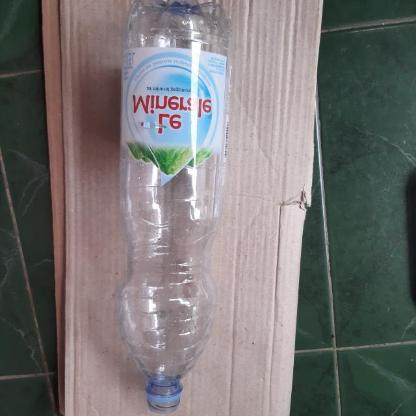Plastic Bottle: (116, 0, 232, 412)
